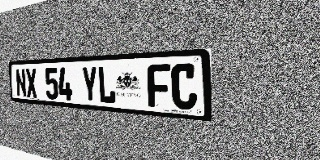4: (57, 67, 72, 101)
5: (45, 68, 59, 100)
C: (171, 63, 197, 110)
F: (147, 64, 171, 108)
L: (97, 66, 116, 104)
N: (15, 69, 27, 97)
X: (25, 68, 38, 98)
Y: (81, 66, 98, 103)
